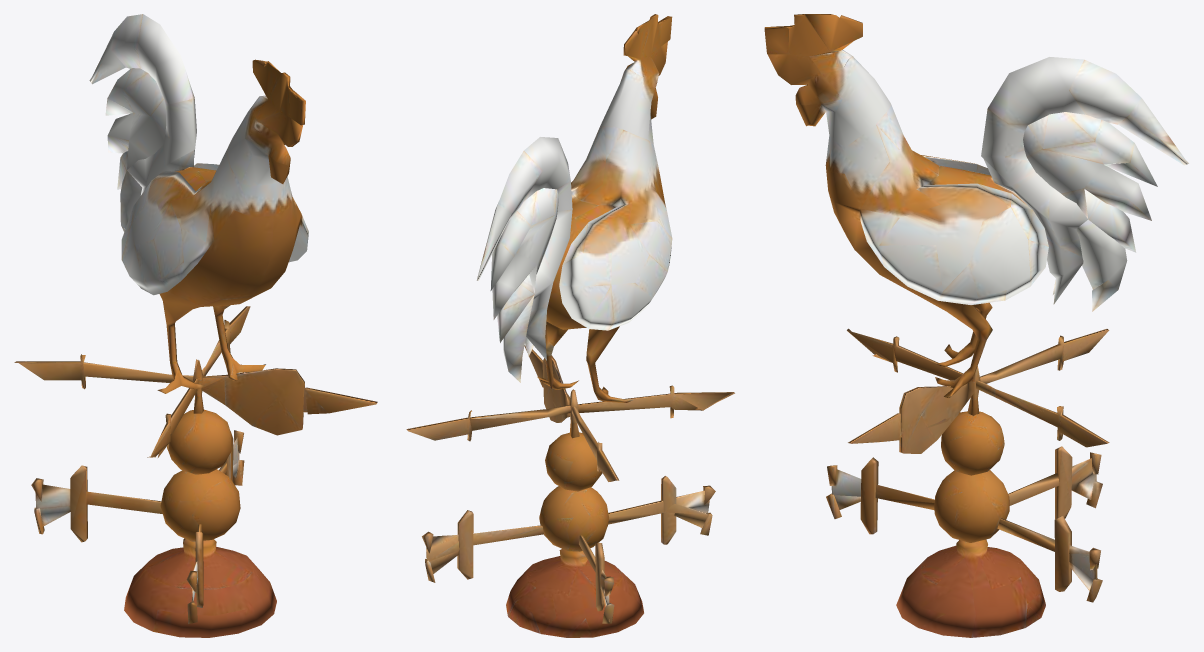
Rendered from keepsake-weathercock.glb.
The picture shows the model from 3 angles, left to right: view 1: azimuth 30°, elevation 25°; view 2: azimuth 150°, elevation 25°; view 3: azimuth 270°, elevation 25°; orthographic projection. The views are drawn at different scales.
Parts seen in each view (by area): view 1: keepsake-weathercock; view 2: keepsake-weathercock; view 3: keepsake-weathercock.
Part boxes in pixels (x1,y1,x2,y2): keepsake-weathercock: (14,14,377,637); keepsake-weathercock: (406,14,734,637); keepsake-weathercock: (764,14,1188,637).
Bounding box in the file's own units: 0.4158 × 1 × 0.6529.
Materials: 1 (1 with a texture image).
